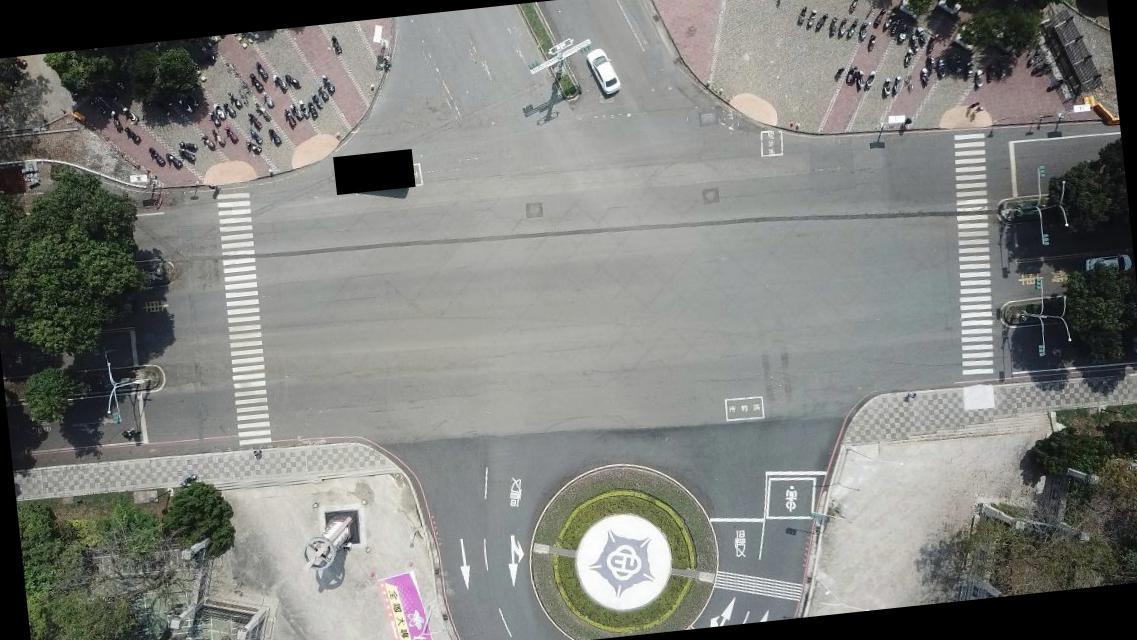vehicle: (584, 44, 624, 98), (1081, 253, 1134, 278)
